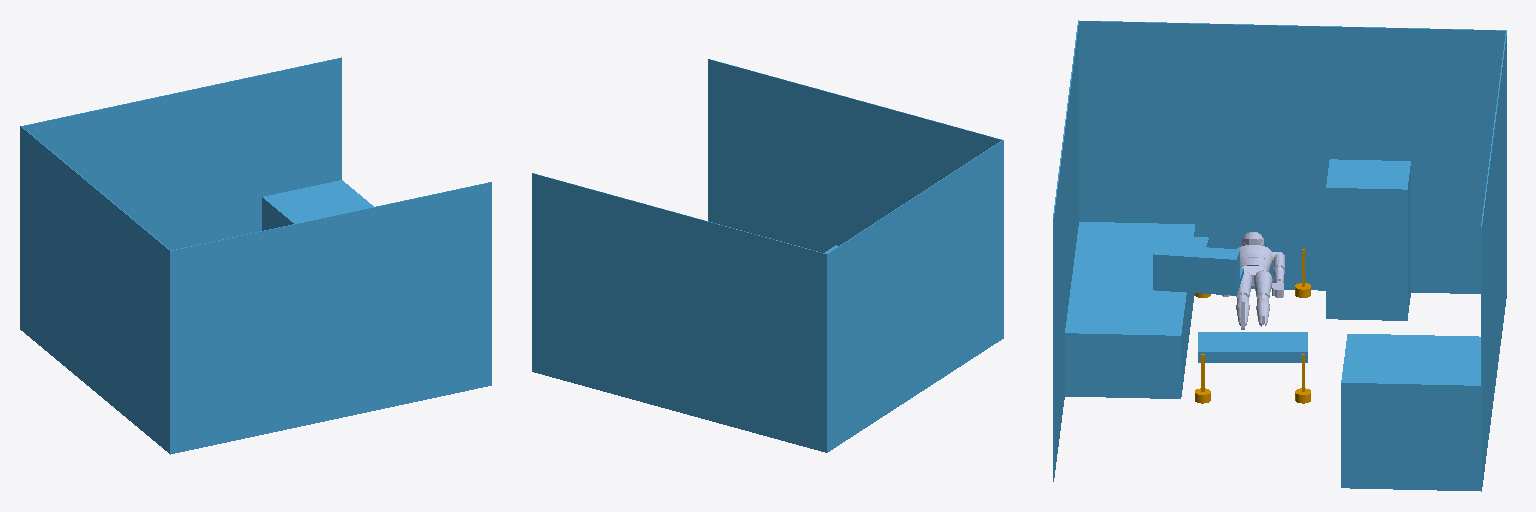
--- Render facts (derived) ---
Views: 3 orthographic renders of the robot side by side, from view 1: azimuth 30°, elevation 25°; view 2: azimuth 150°, elevation 25°; view 3: azimuth 270°, elevation 25°.
Robot: bed_and_environment_henry — 33 links, 32 joints (25 revolute, 4 prismatic, 3 fixed); root link autobed/base_link; default pose: every joint at zero.
Links seen in each view (by area): view 1: autobed/wall_link; view 2: autobed/wall_link; view 3: autobed/wall_link, autobed/base_link.
Boxes of the visible links, left/top/right/bottom form: autobed/wall_link: left=20, top=57, right=491, bottom=454; autobed/wall_link: left=532, top=59, right=1003, bottom=452; autobed/wall_link: left=1053, top=20, right=1506, bottom=491; autobed/base_link: left=1195, top=249, right=1310, bottom=403.
Bounding box of the posed robot: 4.2 × 3.9 × 2.5 m (x, y, z).
17 mesh visuals loaded from 23 distinct referenced files (17 binary STL); not drawn: 6 (reference not matched to a file when rendering).

The robot description file, URDF, robot "bed_and_environment_henry":
<?xml version="1.0"?>
<robot
  name="bed_and_environment_henry">
  <link
   name="autobed/base_link">
    <inertial>
      <origin
        xyz="1.07 3.94840580504828E-16 0.0837923121940762"
        rpy="0 0 0" />
      <mass
        value="6.1860172808288" />
      <inertia
        ixx="1.21978721906848"
        ixy="2.22044604925031E-15"
        ixz="-1.78284289885571E-15"
        iyy="7.15036992783298"
        iyz="-7.76907347784197E-16"
        izz="8.24641740321532" />
    </inertial>
    <visual>
      <origin
        xyz="0 0 0"
        rpy="0 0 0" />
      <geometry>
        <mesh
          filename="package://hrl_base_selection/urdf/bed_and_environment_henry/meshes/base_link.STL" />
      </geometry>
    </visual>
    <collision>
      <origin
        xyz="0 0 0"
        rpy="0 0 0" />
      <geometry>
        <mesh
          filename="package://hrl_base_selection/urdf/bed_and_environment_henry/meshes/base_link.STL" />
      </geometry>
    </collision>
  </link>
    <link
   name="autobed/wall_link">
    <inertial>
      <origin
        xyz="1.85973617610096 0.322876413955559 0.506156564666783"
        rpy="0 0 0" />
      <mass
        value="3480.34879229199" />
      <inertia
        ixx="6193.4907032472"
        ixy="3253.06972401852"
        ixz="-11.5632809249146"
        iyy="7114.12294656335"
        iyz="386.100445501856"
        izz="12101.3286461396" />
    </inertial>
    <visual>
      <origin
        xyz="0 0 0"
        rpy="0 0 0" />
      <geometry>
        <mesh
          filename="package://hrl_base_selection/urdf/bed_and_environment_henry/meshes/wall_link.STL" />
      </geometry>
    </visual>
    <collision>
      <origin
        xyz="0 0 0"
        rpy="0 0 0" />
      <geometry>
        <mesh
          filename="package://hrl_base_selection/urdf/bed_and_environment_henry/meshes/wall_link.STL" />
      </geometry>
    </collision>
  </link>
  <joint
   name="autobed/origin_wall_joint"
    type="fixed">
    <origin
      xyz="-0.12155 -0.0043316 0"
      rpy="0 0 -0.053897" />
    <parent
      link="autobed/base_link" />
    <child
      link="autobed/wall_link" />
    <axis
      xyz="0 0 0" />
  </joint>
  <link
   name="autobed/bed_frame_link">
    <inertial>
      <origin
        xyz="1.20574977089702 -0.00197319632794563 0.010463658046454"
        rpy="0 0 0" />
      <mass
        value="298.525793737685" />
      <inertia
        ixx="25.3079805393988"
        ixy="0.124705215046845"
        ixz="-6.18752707469867"
        iyy="161.196265779885"
        iyz="0.0978345240222597"
        izz="178.196491872743" />
    </inertial>
    <visual>
      <origin
        xyz="0 0 0"
        rpy="0 0 0" />
      <geometry>
        <mesh
          filename="package://hrl_base_selection/urdf/bed_and_environment_henry/meshes/bed_frame_link.STL" />
      </geometry>
    </visual>
    <collision>
      <origin
        xyz="0 0 0"
        rpy="0 0 0" />
      <geometry>
        <mesh
          filename="package://hrl_base_selection/urdf/bed_and_environment_henry/meshes/bed_frame_link.STL" />
      </geometry>
    </collision>
  </link>
  <joint
   name="autobed/tele_legs_joint"
    type="prismatic">
    <origin
      xyz="-0.0400000000000005 0 0.320000000000001"
      rpy="0 0 0" />
    <parent
      link="autobed/base_link" />
    <child
      link="autobed/bed_frame_link" />
    <axis
      xyz="0 0 1" />
    <limit
      lower="-1"
      upper="1"
      effort="0"
      velocity="0" />
  </joint>
  <link
   name="autobed/leg_rest_upper">
    <inertial>
      <origin
        xyz="0.184999999999998 0.10500000000001 6.79804630482359E-16"
        rpy="0 0 0" />
      <mass
        value="71.0955000000001" />
      <inertia
        ixx="5.22152012812501"
        ixy="-3.21389401302034E-17"
        ixz="-3.22023131917487E-17"
        iyy="5.77132532812501"
        iyz="-2.87322532068486E-15"
        izz="1.072357125" />
    </inertial>
    <visual>
      <origin
        xyz="0 0 0"
        rpy="0 0 0" />
      <geometry>
        <mesh
          filename="package://hrl_base_selection/urdf/bed_and_environment_henry/meshes/leg_rest_upper.STL" />
      </geometry>
    </visual>
    <collision>
      <origin
        xyz="0 0 0"
        rpy="0 0 0" />
      <geometry>
        <mesh
          filename="package://hrl_base_selection/urdf/bed_and_environment_henry/meshes/leg_rest_upper.STL" />
      </geometry>
    </collision>
  </link>
  <joint
   name="autobed/leg_rest_upper_hinge"
    type="revolute">
    <origin
      xyz="1.075 0 0"
      rpy="1.5708 -1.8438E-16 7.6543E-16" />
    <parent
      link="autobed/bed_frame_link" />
    <child
      link="autobed/leg_rest_upper" />
    <axis
      xyz="0 0 1" />
    <limit
      lower="-2"
      upper="2"
      effort="0"
      velocity="0" />
  </joint>
  <link
   name="autobed/leg_rest_lower">
    <inertial>
      <origin
        xyz="0.325000000000004 0.104999999999987 -1.38760699713425E-16"
        rpy="0 0 0" />
      <mass
        value="124.8975" />
      <inertia
        ixx="9.172940765625"
        ixy="-4.25925024767052E-17"
        ixz="-8.25969319809873E-16"
        iyy="13.111375265625"
        iyz="2.10674154540826E-16"
        izz="4.856431125" />
    </inertial>
    <visual>
      <origin
        xyz="0 0 0"
        rpy="0 0 0" />
      <geometry>
        <mesh
          filename="package://hrl_base_selection/urdf/bed_and_environment_henry/meshes/leg_rest_lower.STL" />
      </geometry>
    </visual>
    <collision>
      <origin
        xyz="0 0 0"
        rpy="0 0 0" />
      <geometry>
        <mesh
          filename="package://hrl_base_selection/urdf/bed_and_environment_henry/meshes/leg_rest_lower.STL" />
      </geometry>
    </collision>
  </link>
  <joint
   name="autobed/leg_rest_lower_hinge"
    type="revolute">
    <origin
      xyz="0.37 0 0"
      rpy="8.4655E-16 -2.4744E-16 -1.8316E-16" />
    <parent
      link="autobed/leg_rest_upper" />
    <child
      link="autobed/leg_rest_lower" />
    <axis
      xyz="0 0 -1" />
    <limit
      lower="-2"
      upper="2"
      effort="0"
      velocity="0" />
  </joint>
  <link
   name="autobed/head_rest_link">
    <inertial>
      <origin
        xyz="0.338540021639504 -0.102807900235519 0.0331726512276706"
        rpy="0 0 0" />
      <mass
        value="158.265573279578" />
      <inertia
        ixx="13.8116841883572"
        ixy="0.366851813056848"
        ixz="-0.640983438566653"
        iyy="18.5647228773414"
        iyz="-0.857921499431992"
        izz="7.19318513198363" />
    </inertial>
    <visual>
      <origin
        xyz="0 0 0"
        rpy="0 0 0" />
      <geometry>
        <mesh
          filename="package://hrl_base_selection/urdf/bed_and_environment_henry/meshes/head_rest_link.STL" />
      </geometry>
    </visual>
    <collision>
      <origin
        xyz="0 0 0"
        rpy="0 0 0" />
      <geometry>
        <mesh
          filename="package://hrl_base_selection/urdf/bed_and_environment_henry/meshes/head_rest_link.STL" />
      </geometry>
    </collision>
  </link>
  <joint
   name="autobed/head_rest_hinge"
    type="revolute">
    <origin
      xyz="0.795 0 0.21"
      rpy="1.5708 0 -3.1416" />
    <parent
      link="autobed/bed_frame_link" />
    <child
      link="autobed/head_rest_link" />
    <axis
      xyz="0 0 1" />
    <limit
      lower="-2"
      upper="2"
      effort="0"
      velocity="0" />
  </joint>
  <link
    name="autobed/neck_rotated_to_worldframe_link">
  </link>
  <joint
    name="autobed/headrest_bed_to_worldframe_joint"
    type="revolute">
    <origin
      xyz="0.25949 0.1 0"
      rpy="0. 0. 0." />
    <!--<origin-->
      <!--xyz="0.40949 0.05 0"-->
      <!--rpy="0. 0. 0." />-->
    <parent
      link="autobed/head_rest_link" />
    <child
      link="autobed/neck_rotated_to_worldframe_link" />
    <axis
      xyz="0 0 1" />
    <limit
      lower="-2"
      upper="2"
      effort="0"
      velocity="0" />
  </joint>
  <link
    name="autobed/neck_updown_worldframe_translation_link">
  </link>
  <joint
    name="autobed/bed_neck_worldframe_updown_joint"
    type="prismatic">
    <origin
      xyz="0.0 0.0 0"
      rpy="0.0 0.0 0.0" />
    <parent
      link="autobed/neck_rotated_to_worldframe_link" />
    <child
      link="autobed/neck_updown_worldframe_translation_link" />
    <axis
      xyz="-1 0 0" />
    <limit
      lower="-2"
      upper="2"
      effort="0"
      velocity="0" />
  </joint>
  <link
    name="autobed/neck_rotated_to_bedframe_link">
  </link>
  <joint
    name="autobed/bed_neck_to_bedframe_joint"
    type="revolute">
    <origin
      xyz="0.0 0.0 0"
      rpy="0. 0. 0." />
    <parent
      link="autobed/neck_updown_worldframe_translation_link" />
    <child
      link="autobed/neck_rotated_to_bedframe_link" />
    <axis
      xyz="0 0 1" />
    <limit
      lower="-2"
      upper="2"
      effort="0"
      velocity="0" />
  </joint>
  <link
    name="autobed/neck_updown_bedframe_translation_link">
  </link>
  <joint
    name="autobed/bed_neck_base_updown_bedframe_joint"
    type="prismatic">
    <origin
      xyz="0.0 0.0 0"
      rpy="0. 0. 0." />
    <parent
      link="autobed/neck_rotated_to_bedframe_link" />
    <child
      link="autobed/neck_updown_bedframe_translation_link" />
    <axis
      xyz="-1 0 0" />
    <limit
      lower="-2"
      upper="2"
      effort="0"
      velocity="0" />
  </joint>
  <link
    name="autobed/neck_base_link">
  </link>
  <joint
    name="autobed/bed_neck_base_leftright_joint"
    type="prismatic">
    <origin
      xyz="0 0 0"
      rpy="0 3.14159 0" />
    <parent
      link="autobed/neck_updown_bedframe_translation_link" />
    <child
      link="autobed/neck_base_link" />
    <axis
      xyz="0 0 -1" />
    <limit
      lower="-2"
      upper="2"
      effort="0"
      velocity="0" />
  </joint>
  <link
    name="autobed/neck_twist_link">
  </link>
  <joint
    name="autobed/neck_twist_joint"
    type="revolute">
    <origin
      xyz="0.0 0.0 0"
      rpy="0. 0. 0." />
    <parent
      link="autobed/neck_base_link" />
    <child
      link="autobed/neck_twist_link" />
    <axis
      xyz="1 0 0" />
    <limit
      lower="-2"
      upper="2"
      effort="0"
      velocity="0" />
  </joint>
  <link
    name="autobed/neck_tilt_link">
  </link>
  <joint
    name="autobed/neck_tilt_joint"
    type="revolute">
    <origin
      xyz="0.0 0.0 0"
      rpy="0. 0. 0." />
    <parent
      link="autobed/neck_twist_link" />
    <child
      link="autobed/neck_tilt_link" />
    <axis
      xyz="0 0 -1" />
    <limit
      lower="-2"
      upper="2"
      effort="0"
      velocity="0" />
  </joint>
  <link
    name="autobed/neck_link">
    <visual>
      <origin
        xyz="0 0 0"
        rpy="0 0 0" />
      <geometry>
        <mesh
          filename="package://hrl_base_selection/urdf/bed_and_environment_henry/meshes/neck_link.STL" />
      </geometry>
      <material
        name="">
        <color
          rgba="0.792156862745098 0.819607843137255 0.933333333333333 1" />
      </material>
    </visual>
    <collision>
      <origin
        xyz="0 0 0"
        rpy="0 0 0" />
      <geometry>
        <mesh
          filename="package://hrl_base_selection/urdf/bed_and_environment_henry/meshes/neck_link.STL" />
      </geometry>
    </collision>
  </link>
  <joint
    name="autobed/neck_to_neck_top_joint"
    type="fixed">
    <origin
      xyz="-0.07239 0 0"
      rpy="0 0 0" />
    <parent
      link="autobed/neck_tilt_link" />
    <child
      link="autobed/neck_link" />
  </joint>
  <link
    name="autobed/neck_top_rotated_link">
  </link>
  <joint
    name="autobed/neck_rotation_fixed_joint"
    type="fixed">
    <origin
      xyz="0 0 0"
      rpy="-1.570796 0 1.570796" />
    <parent
      link="autobed/neck_link" />
    <child
      link="autobed/neck_top_rotated_link" />
    <axis
      xyz="0 0 1" />
    <limit
      lower="-2"
      upper="2"
      effort="0"
      velocity="0" />
  </joint>
  <link
    name="autobed/head_roty_link">
  </link>
  <joint
    name="autobed/neck_head_roty_joint"
    type="revolute">
    <origin
      xyz="0.0154 0 0.07779"
      rpy="0 0 0" />
    <parent
      link="autobed/neck_top_rotated_link" />
    <child
      link="autobed/head_roty_link" />
    <axis
      xyz="0 1 0" />
    <limit
      lower="-2"
      upper="2"
      effort="0"
      velocity="0" />
  </joint>
  <link
    name="autobed/head_rotz_link">
  </link>
  <joint
    name="autobed/neck_head_rotz_joint"
    type="revolute">
    <origin
      xyz="0 0 0"
      rpy="0 0 0" />
    <parent
      link="autobed/head_roty_link" />
    <child
      link="autobed/head_rotz_link" />
    <axis
      xyz="0 0 1" />
    <limit
      lower="-2"
      upper="2"
      effort="0"
      velocity="0" />
  </joint>

  <link
    name="autobed/head_link">
    <visual>
      <origin
        xyz="0 0 0"
        rpy="0 0 0" />
      <geometry>
        <mesh
          filename="package://hrl_base_selection/urdf/bed_and_environment_henry/meshes/head_link.STL" />
      </geometry>
      <material
        name="">
        <color
          rgba="0.792156862745098 0.819607843137255 0.933333333333333 1" />
      </material>
    </visual>
    <collision>
      <origin
        xyz="0 0 0"
        rpy="0 0 0" />
      <geometry>
        <mesh
          filename="package://hrl_base_selection/urdf/bed_and_environment_henry/meshes/head_link.STL" />
      </geometry>
    </collision>
  </link>
  <joint
    name="autobed/neck_head_rotx_joint"
    type="revolute">
    <origin
      xyz="0 0 0"
      rpy="0 0 0" />
    <parent
      link="autobed/head_rotz_link" />
    <child
      link="autobed/head_link" />
    <axis
      xyz="1 0 0" />
    <limit
      lower="-2"
      upper="2"
      effort="0"
      velocity="0" />
  </joint>
  <link
    name="autobed/upper_body_link">
    <visual>
      <origin
        xyz="0 0 0"
        rpy="0 0 0" />
      <geometry>
        <mesh
          filename="package://hrl_base_selection/urdf/bed_and_environment_henry/meshes/upper_body_link.STL" />
      </geometry>
      <material
        name="">
        <color
          rgba="0.792156862745098 0.819607843137255 0.933333333333333 1" />
      </material>
    </visual>
    <collision>
      <origin
        xyz="0 0 0"
        rpy="0 0 0" />
      <geometry>
        <mesh
          filename="package://hrl_base_selection/urdf/bed_and_environment_henry/meshes/upper_body_link.STL" />
      </geometry>
    </collision>
  </link>
  <joint
    name="autobed/neck_body_joint"
    type="revolute">
    <origin
      xyz="0.00 0 0"
      rpy="0 0 0" />
    <parent
      link="autobed/neck_base_link" />
    <child
      link="autobed/upper_body_link" />
    <axis
      xyz="0 0 -1" />
    <limit
      lower="-2"
      upper="2"
      effort="0"
      velocity="0" />
  </joint>
  <link
    name="autobed/mid_body_link">
    <visual>
      <origin
        xyz="0 0 0"
        rpy="0 0 0" />
      <geometry>
        <mesh
          filename="package://hrl_base_selection/urdf/bed_and_environment_henry/meshes/mid_body_link.STL" />
      </geometry>
      <material
        name="">
        <color
          rgba="0.792156862745098 0.819607843137255 0.933333333333333 1" />
      </material>
    </visual>
    <collision>
      <origin
        xyz="0 0 0"
        rpy="0 0 0" />
      <geometry>
        <mesh
          filename="package://hrl_base_selection/urdf/bed_and_environment_henry/meshes/mid_body_link.STL" />
      </geometry>
    </collision>
  </link>
  <joint
    name="autobed/upper_mid_body_joint"
    type="revolute">
    <origin
      xyz="0.35052 0 0"
      rpy="0 0 0" />
    <parent
      link="autobed/upper_body_link" />
    <child
      link="autobed/mid_body_link" />
    <axis
      xyz="0 0 1" />
    <limit
      lower="-2"
      upper="2"
      effort="0"
      velocity="0" />
  </joint>
  <link
    name="autobed/lower_body_link">
    <visual>
      <origin
        xyz="0 0 0"
        rpy="0 0 0" />
      <geometry>
        <mesh
          filename="package://hrl_base_selection/urdf/bed_and_environment_henry/meshes/lower_body_link.STL" />
      </geometry>
      <material
        name="">
        <color
          rgba="0.792156862745098 0.819607843137255 0.933333333333333 1" />
      </material>
    </visual>
    <collision>
      <origin
        xyz="0 0 0"
        rpy="0 0 0" />
      <geometry>
        <mesh
          filename="package://hrl_base_selection/urdf/bed_and_environment_henry/meshes/lower_body_link.STL" />
      </geometry>
    </collision>
  </link>
  <joint
    name="autobed/mid_lower_body_joint"
    type="revolute">
    <origin
      xyz="0.15113 0 0"
      rpy="0 0 0" />
    <parent
      link="autobed/mid_body_link" />
    <child
      link="autobed/lower_body_link" />
    <axis
      xyz="0 0 1" />
    <limit
      lower="-2"
      upper="2"
      effort="0"
      velocity="0" />
  </joint>
  <link
    name="autobed/quad_left_link">
    <visual>
      <origin
        xyz="0 0 0"
        rpy="0 0 0" />
      <geometry>
        <mesh
          filename="package://hrl_base_selection/urdf/bed_and_environment_henry/meshes/quad_left_link.STL" />
      </geometry>
      <material
        name="">
        <color
          rgba="0.792156862745098 0.819607843137255 0.933333333333333 1" />
      </material>
    </visual>
    <collision>
      <origin
        xyz="0 0 0"
        rpy="0 0 0" />
      <geometry>
        <mesh
          filename="package://hrl_base_selection/urdf/bed_and_environment_henry/meshes/quad_left_link.STL" />
      </geometry>
    </collision>
  </link>
  <joint
    name="autobed/body_quad_left_joint"
    type="revolute">
    <origin
      xyz="0.05207 0 -0.08636"
      rpy="0 0 -.25" />
    <parent
      link="autobed/lower_body_link" />
    <child
      link="autobed/quad_left_link" />
    <axis
      xyz="0 0 1" />
    <limit
      lower="-3."
      upper="3."
      effort="0"
      velocity="0" />
  </joint>
  <link
    name="autobed/calf_left_link">
    <visual>
      <origin
        xyz="0 0 0"
        rpy="0 0 0" />
      <geometry>
        <mesh
          filename="package://hrl_base_selection/urdf/bed_and_environment_henry/meshes/calf_left_link.STL" />
      </geometry>
      <material
        name="">
        <color
          rgba="0.792156862745098 0.819607843137255 0.933333333333333 1" />
      </material>
    </visual>
    <collision>
      <origin
        xyz="0 0 0"
        rpy="0 0 0" />
      <geometry>
        <mesh
          filename="package://hrl_base_selection/urdf/bed_and_environment_henry/meshes/calf_left_link.STL" />
      </geometry>
    </collision>
  </link>
  <joint
    name="autobed/quad_calf_left_joint"
    type="revolute">
    <origin
      xyz="0.41218 0.11044 0"
      rpy="3.14159 0 3.43" />
    <parent
      link="autobed/quad_left_link" />
    <child
      link="autobed/calf_left_link" />
    <axis
      xyz="0 0 1" />
    <limit
      lower="-3."
      upper="3."
      effort="0"
      velocity="0" />
  </joint>
  <link
    name="autobed/foot_left_link">
    <visual>
      <origin
        xyz="0 0 0"
        rpy="0 0 0" />
      <geometry>
        <mesh
          filename="package://hrl_base_selection/urdf/bed_and_environment_henry/meshes/foot_left_link.STL" />
      </geometry>
      <material
        name="">
        <color
          rgba="0.792156862745098 0.819607843137255 0.933333333333333 1" />
      </material>
    </visual>
    <collision>
      <origin
        xyz="0 0 0"
        rpy="0 0 0" />
      <geometry>
        <mesh
          filename="package://hrl_base_selection/urdf/bed_and_environment_henry/meshes/foot_left_link.STL" />
      </geometry>
    </collision>
  </link>
  <joint
    name="autobed/calf_foot_left_joint"
    type="revolute">
    <origin
      xyz="-0.41279 -0.03188 0"
      rpy="0 0 0.09" />
    <parent
      link="autobed/calf_left_link" />
    <child
      link="autobed/foot_left_link" />
    <axis
      xyz="0 0 1" />
    <limit
      lower="-3."
      upper="3."
      effort="0"
      velocity="0" />
  </joint>
  <link
    name="autobed/quad_right_link">
    <visual>
      <origin
        xyz="0 0 0"
        rpy="0 0 0" />
      <geometry>
        <mesh
          filename="package://hrl_base_selection/urdf/bed_and_environment_henry/meshes/quad_right_link.STL" />
      </geometry>
      <material
        name="">
        <color
          rgba="0.792156862745098 0.819607843137255 0.933333333333333 1" />
      </material>
    </visual>
    <collision>
      <origin
        xyz="0 0 0"
        rpy="0 0 0" />
      <geometry>
        <mesh
          filename="package://hrl_base_selection/urdf/bed_and_environment_henry/meshes/quad_right_link.STL" />
      </geometry>
    </collision>
  </link>
  <joint
    name="autobed/body_quad_right_joint"
    type="revolute">
    <origin
      xyz="0.05207 0 0.08636"
      rpy="0 0 -.25" />
    <parent
      link="autobed/lower_body_link" />
    <child
      link="autobed/quad_right_link" />
    <axis
      xyz="0 0 1" />
    <limit
      lower="-3"
      upper="3"
      effort="0"
      velocity="0" />
  </joint>
  <link
    name="autobed/calf_right_link">
    <visual>
      <origin
        xyz="0 0 0"
        rpy="0 0 0" />
      <geometry>
        <mesh
          filename="package://hrl_base_selection/urdf/bed_and_environment_henry/meshes/calf_right_link.STL" />
      </geometry>
      <material
        name="">
        <color
          rgba="0.792156862745098 0.819607843137255 0.933333333333333 1" />
      </material>
    </visual>
    <collision>
      <origin
        xyz="0 0 0"
        rpy="0 0 0" />
      <geometry>
        <mesh
          filename="package://hrl_base_selection/urdf/bed_and_environment_henry/meshes/calf_right_link.STL" />
      </geometry>
    </collision>
  </link>
  <joint
    name="autobed/quad_calf_right_joint"
    type="revolute">
    <origin
      xyz="0.41218 0.11044 0"
      rpy="3.14159 0 3.43" />
    <parent
      link="autobed/quad_right_link" />
    <child
      link="autobed/calf_right_link" />
    <axis
      xyz="0 0 1" />
    <limit
      lower="-3"
      upper="3"
      effort="0"
      velocity="0" />
  </joint>
  <link
    name="autobed/foot_right_link">
    <visual>
      <origin
        xyz="0 0 0"
        rpy="0 0 0" />
      <geometry>
        <mesh
          filename="package://hrl_base_selection/urdf/bed_and_environment_henry/meshes/foot_right_link.STL" />
      </geometry>
      <material
        name="">
        <color
          rgba="0.792156862745098 0.819607843137255 0.933333333333333 1" />
      </material>
    </visual>
    <collision>
      <origin
        xyz="0 0 0"
        rpy="0 0 0" />
      <geometry>
        <mesh
          filename="package://hrl_base_selection/urdf/bed_and_environment_henry/meshes/foot_right_link.STL" />
      </geometry>
    </collision>
  </link>
  <joint
    name="autobed/calf_foot_right_joint"
    type="revolute">
    <origin
      xyz="-0.41279 -0.03188 0"
      rpy="0 0 0.09" />
    <parent
      link="autobed/calf_right_link" />
    <child
      link="autobed/foot_right_link" />
    <axis
      xyz="0 0 1" />
    <limit
      lower="-3"
      upper="3"
      effort="0"
      velocity="0" />
  </joint>
  <link
    name="autobed/arm_left_link">
    <visual>
      <origin
        xyz="0 0 0"
        rpy="0 0 0" />
      <geometry>
        <mesh
          filename="package://hrl_base_selection/urdf/bed_and_environment_henry/meshes/arm_left_link.STL" />
      </geometry>
      <material
        name="">
        <color
          rgba="0.792156862745098 0.819607843137255 0.933333333333333 1" />
      </material>
    </visual>
    <collision>
      <origin
        xyz="0 0 0"
        rpy="0 0 0" />
      <geometry>
        <mesh
          filename="package://hrl_base_selection/urdf/bed_and_environment_henry/meshes/arm_left_link.STL" />
      </geometry>
    </collision>
  </link>
  <joint
    name="autobed/body_arm_left_joint"
    type="revolute">
    <origin
      xyz="0.09652 0 -0.17526"
      rpy="0 0 0" />
    <parent
      link="autobed/upper_body_link" />
    <child
      link="autobed/arm_left_link" />
    <axis
      xyz="0 0 1" />
    <limit
      lower="-3"
      upper="3"
      effort="0"
      velocity="0" />
  </joint>
  <link
    name="autobed/forearm_left_link">
    <visual>
      <origin
        xyz="0 0 0"
        rpy="0 0 0" />
      <geometry>
        <mesh
          filename="package://hrl_base_selection/urdf/bed_and_environment_henry/meshes/forearm_left_link.STL" />
      </geometry>
      <material
        name="">
        <color
          rgba="0.792156862745098 0.819607843137255 0.933333333333333 1" />
      </material>
    </visual>
    <collision>
      <origin
        xyz="0 0 0"
        rpy="0 0 0" />
      <geometry>
        <mesh
          filename="package://hrl_base_selection/urdf/bed_and_environment_henry/meshes/forearm_left_link.STL" />
      </geometry>
    </collision>
  </link>
  <joint
    name="autobed/arm_forearm_left_joint"
    type="revolute">
    <origin
      xyz="0.28174 -0.0106 -0.04953"
      rpy="0 0 0" />
    <parent
      link="autobed/arm_left_link" />
    <child
      link="autobed/forearm_left_link" />
    <axis
      xyz="0 0 1" />
    <limit
      lower="-3"
      upper="3"
      effort="0"
      velocity="0" />
  </joint>
  <link
    name="autobed/hand_left_link">
    <visual>
      <origin
        xyz="0 0 0"
        rpy="0 0 0" />
      <geometry>
        <mesh
          filename="package://hrl_base_selection/urdf/bed_and_environment_henry/meshes/hand_left_link.STL" />
      </geometry>
      <material
        name="">
        <color
          rgba="0.792156862745098 0.819607843137255 0.933333333333333 1" />
      </material>
    </visual>
    <collision>
      <origin
        xyz="0 0 0"
        rpy="0 0 0" />
      <geometry>
        <mesh
          filename="package://hrl_base_selection/urdf/bed_and_environment_henry/meshes/hand_left_link.STL" />
      </geometry>
    </collision>
  </link>
  <joint
    name="autobed/forearm_hand_left_joint"
    type="revolute">
    <origin
      xyz="0.25146 0 0"
      rpy="0 0 0" />
    <parent
      link="autobed/forearm_left_link" />
    <child
      link="autobed/hand_left_link" />
    <axis
      xyz="0 0 1" />
    <limit
      lower="-3"
      upper="3"
      effort="0"
      velocity="0" />
  </joint>
  <link
    name="autobed/arm_right_link">
    <visual>
      <origin
        xyz="0 0 0"
        rpy="0 0 0" />
      <geometry>
        <mesh
          filename="package://hrl_base_selection/urdf/bed_and_environment_henry/meshes/arm_right_link.STL" />
      </geometry>
      <material
        name="">
        <color
          rgba="0.792156862745098 0.819607843137255 0.933333333333333 1" />
      </material>
    </visual>
    <collision>
      <origin
        xyz="0 0 0"
        rpy="0 0 0" />
      <geometry>
        <mesh
          filename="package://hrl_base_selection/urdf/bed_and_environment_henry/meshes/arm_right_link.STL" />
      </geometry>
    </collision>
  </link>
  <joint
    name="autobed/body_arm_right_joint"
    type="revolute">
    <origin
      xyz="0.09652 0 0.17526"
      rpy="0 0 0" />
    <parent
      link="autobed/upper_body_link" />
    <child
      link="autobed/arm_right_link" />
    <axis
      xyz="0 0 1" />
    <limit
      lower="-3"
      upper="3"
      effort="0"
      velocity="0" />
  </joint>
  <link
    name="autobed/forearm_right_link">
    <visual>
      <origin
        xyz="0 0 0"
        rpy="0 0 0" />
      <geometry>
        <mesh
          filename="package://hrl_base_selection/urdf/bed_and_environment_henry/meshes/forearm_right_link.STL" />
      </geometry>
      <material
        name="">
        <color
          rgba="0.792156862745098 0.819607843137255 0.933333333333333 1" />
      </material>
    </visual>
    <collision>
      <origin
        xyz="0 0 0"
        rpy="0 0 0" />
      <geometry>
        <mesh
          filename="package://hrl_base_selection/urdf/bed_and_environment_henry/meshes/forearm_right_link.STL" />
      </geometry>
    </collision>
  </link>
  <joint
    name="autobed/arm_forearm_right_joint"
    type="revolute">
    <origin
      xyz="0.28194 0 0.04953"
      rpy="0 0 0" />
    <parent
      link="autobed/arm_right_link" />
    <child
      link="autobed/forearm_right_link" />
    <axis
      xyz="0 0 1" />
    <limit
      lower="-3"
      upper="3"
      effort="0"
      velocity="0" />
  </joint>
  <link
    name="autobed/hand_right_link">
    <visual>
      <origin
        xyz="0 0 0"
        rpy="0 0 0" />
      <geometry>
        <mesh
          filename="package://hrl_base_selection/urdf/bed_and_environment_henry/meshes/hand_right_link.STL" />
      </geometry>
      <material
        name="">
        <color
          rgba="0.792156862745098 0.819607843137255 0.933333333333333 1" />
      </material>
    </visual>
    <collision>
      <origin
        xyz="0 0 0"
        rpy="0 0 0" />
      <geometry>
        <mesh
          filename="package://hrl_base_selection/urdf/bed_and_environment_henry/meshes/hand_right_link.STL" />
      </geometry>
    </collision>
  </link>
  <joint
    name="autobed/forearm_hand_right_joint"
    type="revolute">
    <origin
      xyz="0.25146 0 0"
      rpy="0 0 0" />
    <parent
      link="autobed/forearm_right_link" />
    <child
      link="autobed/hand_right_link" />
    <axis
      xyz="0 0 1" />
    <limit
      lower="-3"
      upper="3"
      effort="0"
      velocity="0" />
  </joint>

</robot>
